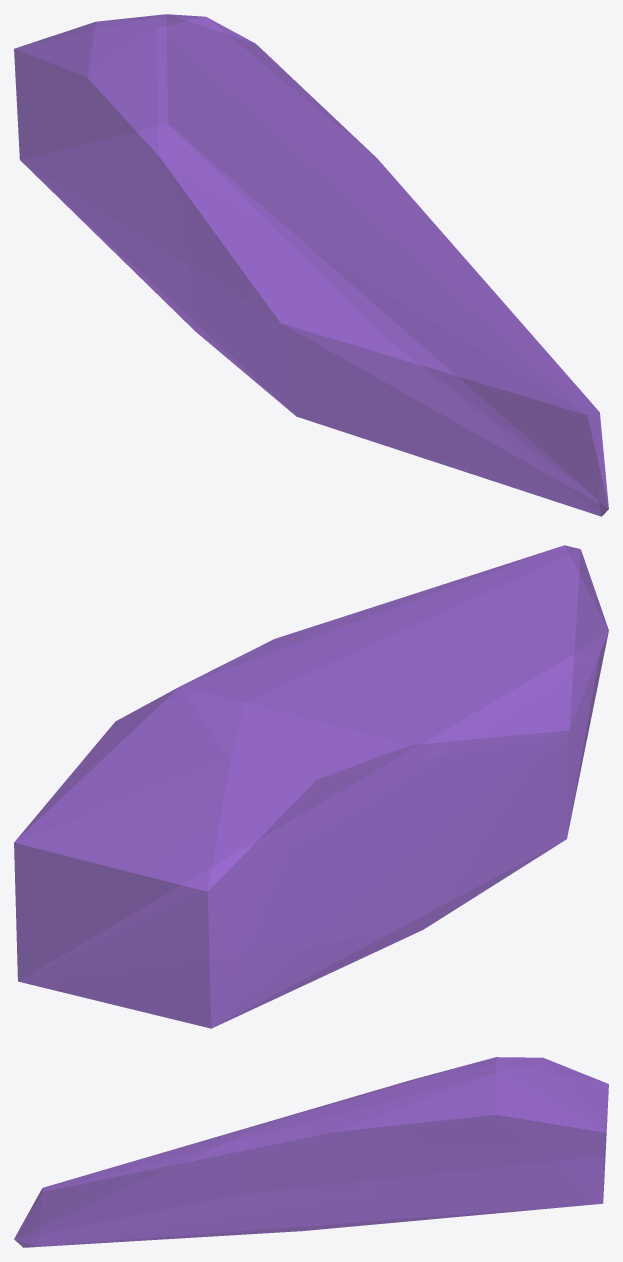
3 views of the same model, one above another, from view 1: azimuth 30°, elevation 25°; view 2: azimuth 150°, elevation 25°; view 3: azimuth 270°, elevation 25° (orthographic). The views are drawn at different scales.
Visible parts, largest first — view 1: Shape_IndexedFaceSet.022_Shape_IndexedFaceSet.4368; view 2: Shape_IndexedFaceSet.022_Shape_IndexedFaceSet.4368; view 3: Shape_IndexedFaceSet.022_Shape_IndexedFaceSet.4368.
Part boxes in pixels (<box>): Shape_IndexedFaceSet.022_Shape_IndexedFaceSet.4368: <box>14,14,608,516</box>; Shape_IndexedFaceSet.022_Shape_IndexedFaceSet.4368: <box>14,545,608,1028</box>; Shape_IndexedFaceSet.022_Shape_IndexedFaceSet.4368: <box>14,1057,608,1247</box>.
Bounding box in the file's own units: 0.0831 × 0.1214 × 0.4022.
